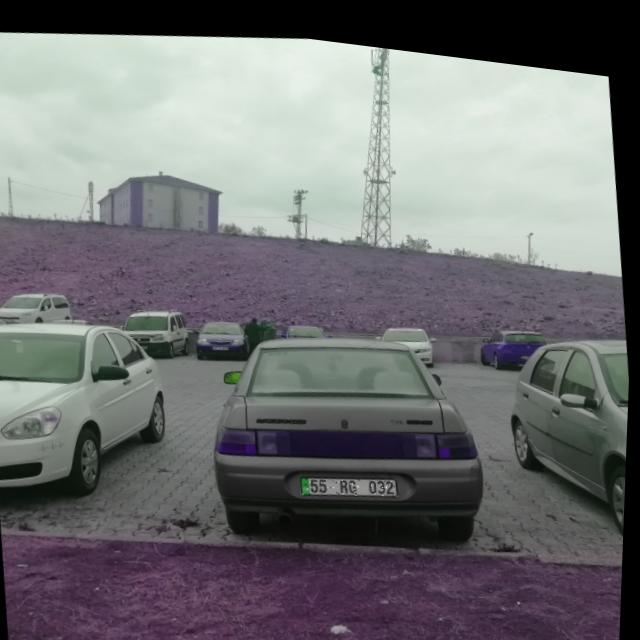license_plate: (304, 460, 400, 495)
